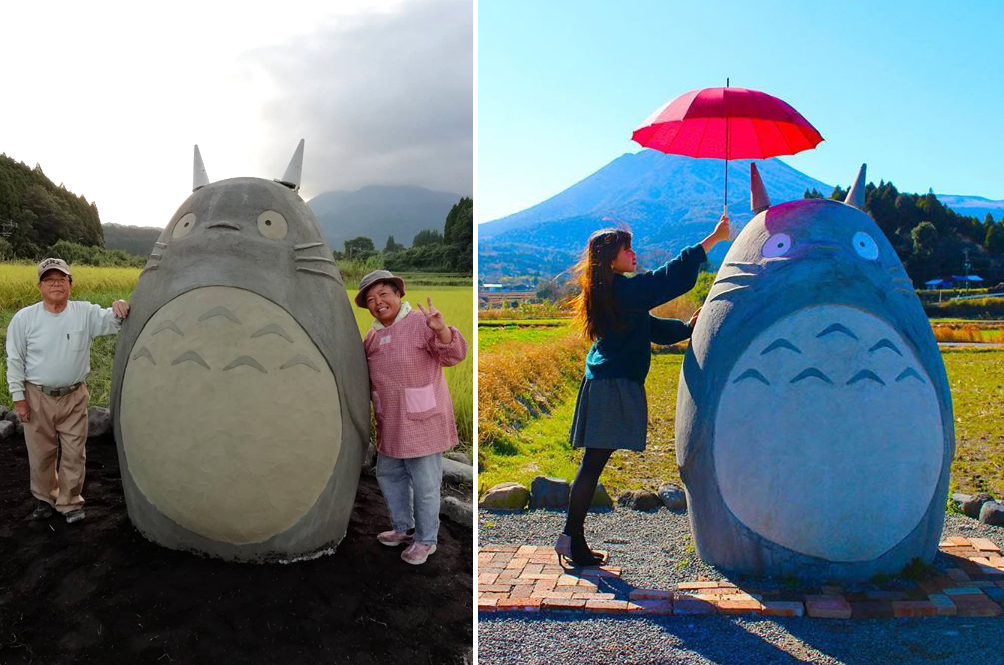Totoro: (672, 159, 965, 594), (106, 135, 380, 573)
